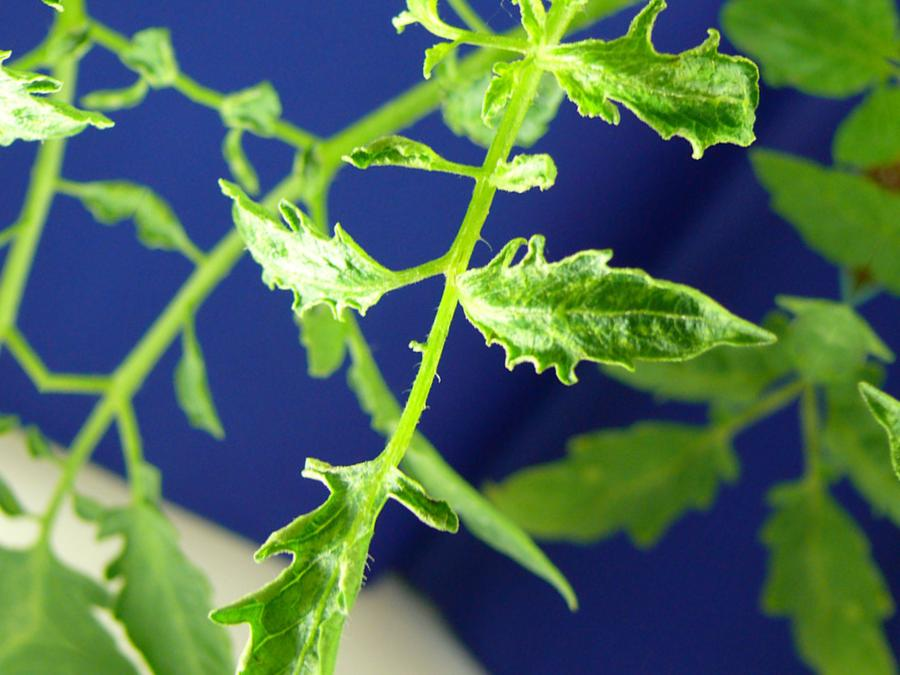Tomato leaf mosaic virus: (422, 159, 803, 493), (180, 403, 476, 675), (513, 0, 813, 231), (168, 150, 419, 359)
